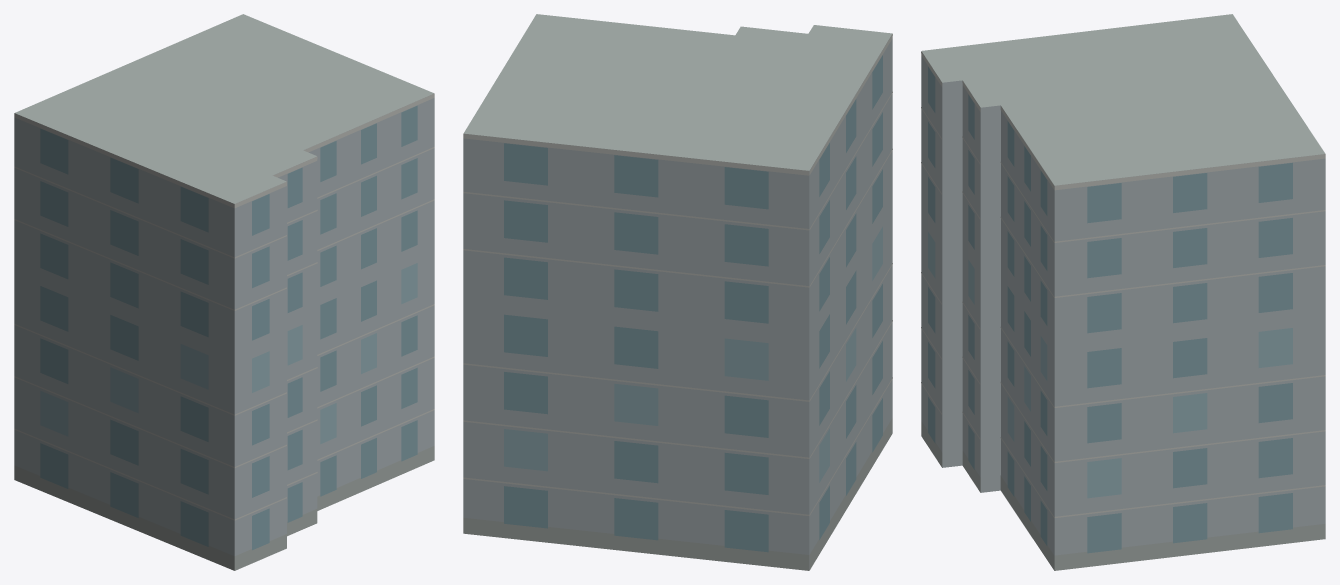
File: survey-upis-32989952.glb
The picture shows the model from 3 angles, left to right: view 1: azimuth 30°, elevation 25°; view 2: azimuth 150°, elevation 25°; view 3: azimuth 270°, elevation 25°; orthographic projection. The views are drawn at different scales.
Visible parts, largest first — view 1: survey-upis-32989952.tmp; view 2: survey-upis-32989952.tmp; view 3: survey-upis-32989952.tmp.
Boxes of the visible parts, bbox=[...] form: survey-upis-32989952.tmp: bbox=[14, 14, 434, 570]; survey-upis-32989952.tmp: bbox=[463, 14, 892, 570]; survey-upis-32989952.tmp: bbox=[921, 14, 1325, 570].
Size of the model in its own units: 19.34 by 20.2 by 19.24.
